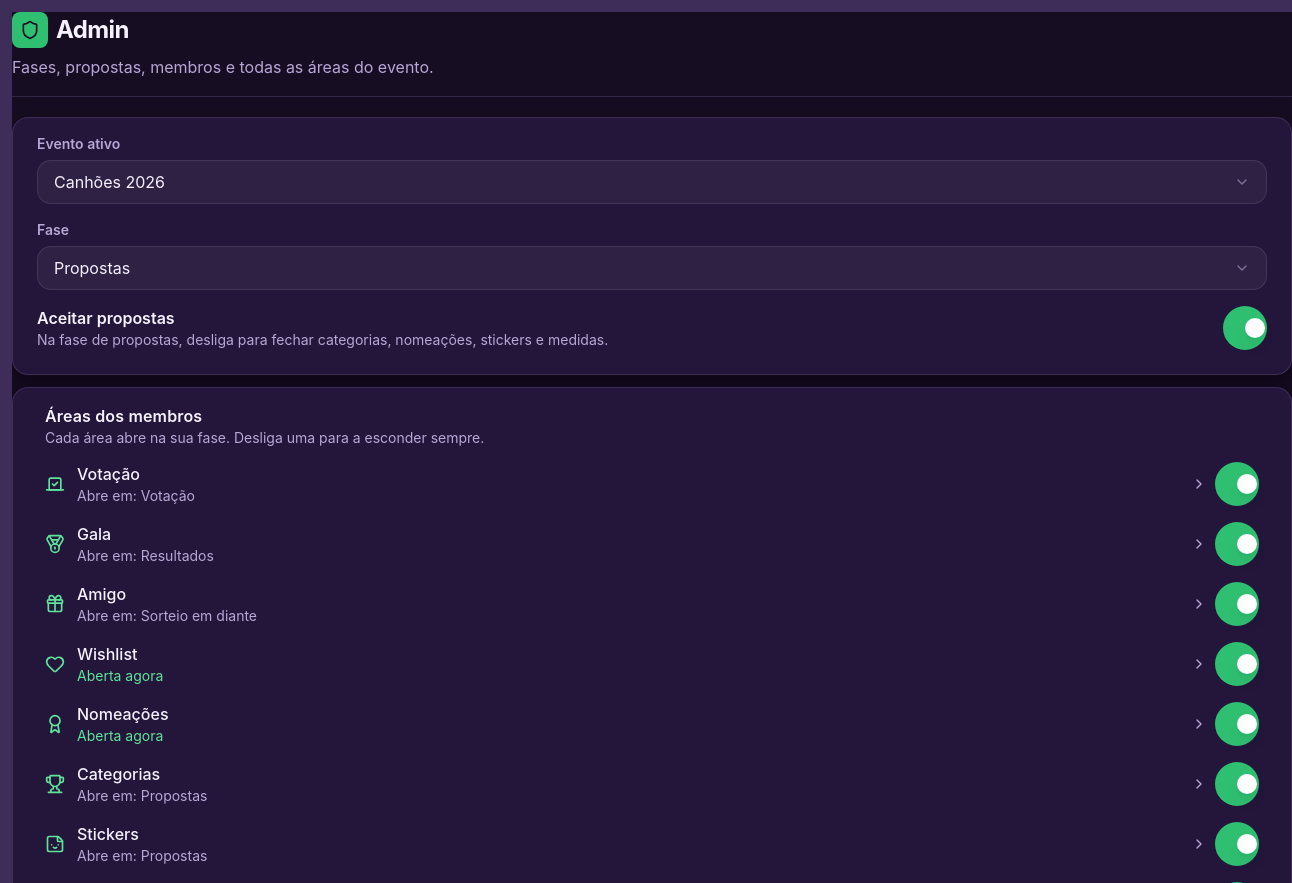
CanhoesAdminModule — event settings › closes proposals
This screenshot has width=1292, height=883.
Click the switch named "Aceitar propostas" at (1245, 328), box [1223, 306, 1267, 350]
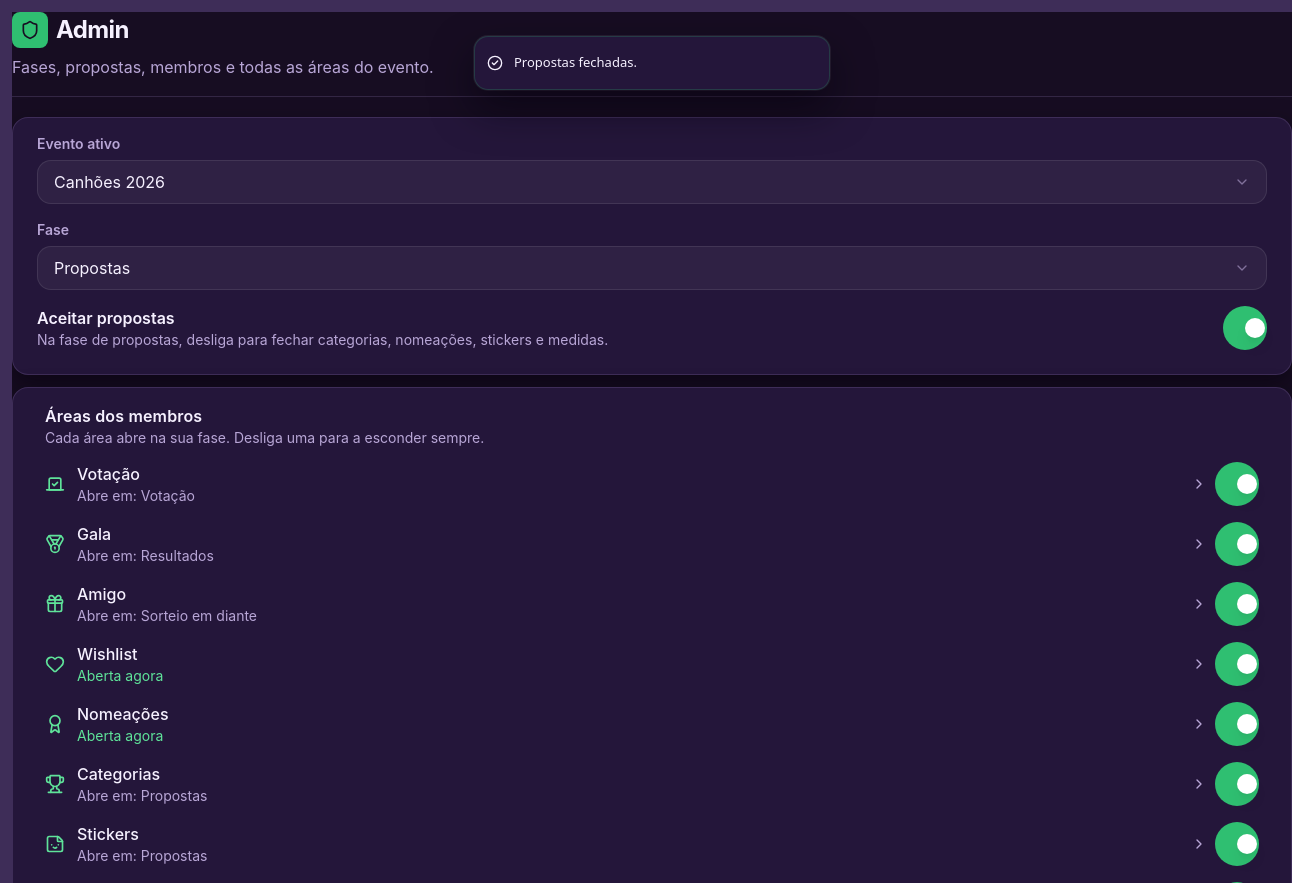
Expected: the text "Propostas fechadas." is shown, [514, 53, 637, 72]
